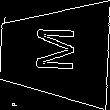M_W: (30, 29, 79, 77)
